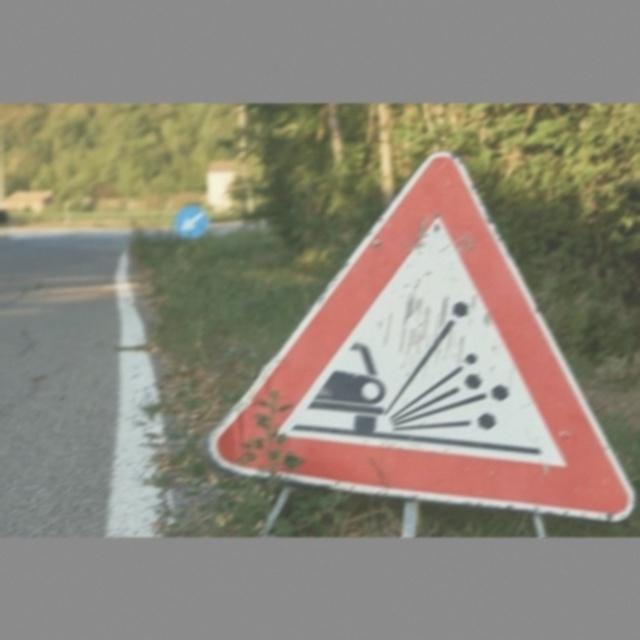Loose_Gravel: (241, 153, 614, 497)
